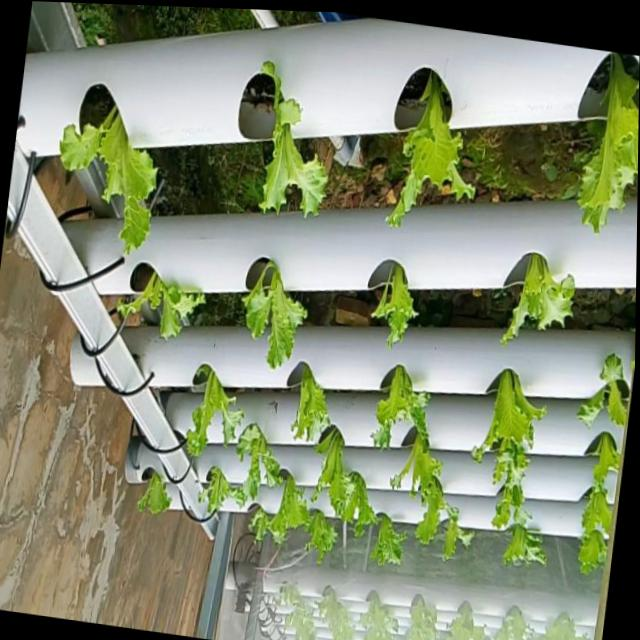Baby: (54, 110, 153, 258), (384, 74, 471, 230), (575, 53, 639, 233), (256, 65, 324, 217), (239, 266, 304, 374), (499, 254, 571, 346), (387, 428, 454, 524), (108, 279, 200, 347), (182, 369, 240, 461), (308, 426, 363, 522), (478, 369, 538, 450), (365, 488, 421, 572), (246, 475, 306, 547), (232, 425, 280, 506), (574, 353, 625, 427), (488, 424, 530, 511), (370, 267, 414, 350), (371, 366, 414, 449), (288, 366, 327, 444), (576, 485, 610, 564), (194, 468, 242, 521), (431, 503, 473, 559), (301, 509, 335, 565), (501, 522, 544, 564), (132, 478, 168, 520)
